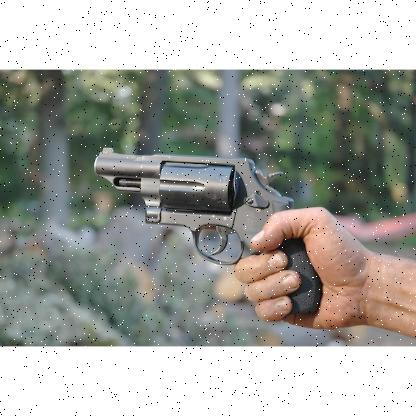gun: (90, 144, 322, 318)
